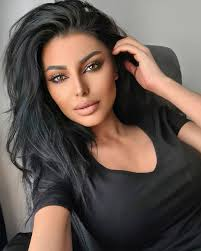e.brown: (55, 75, 64, 82)
